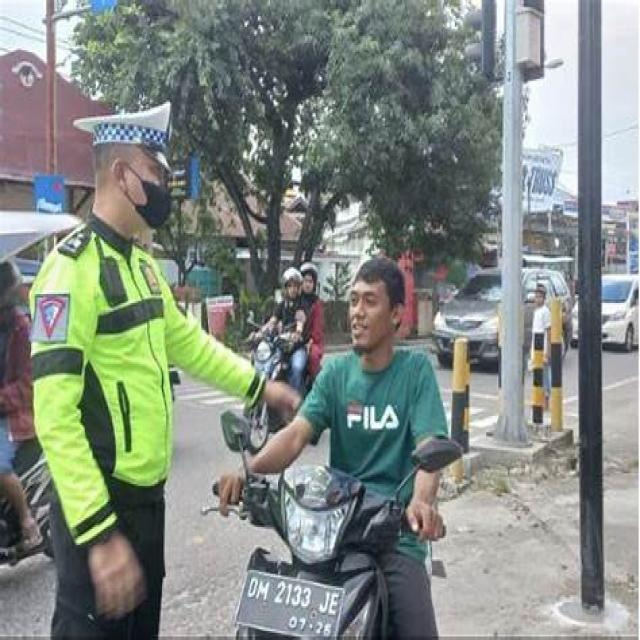Without Helmet: (336, 260, 411, 358)
